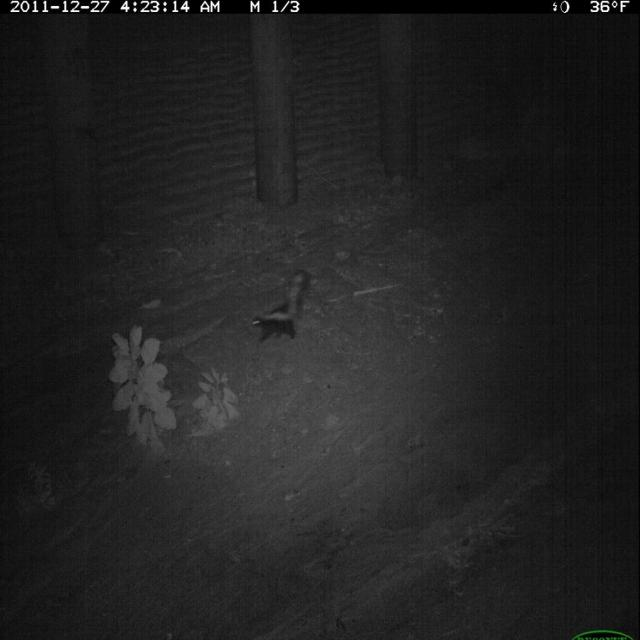skunk: (248, 264, 317, 350)
